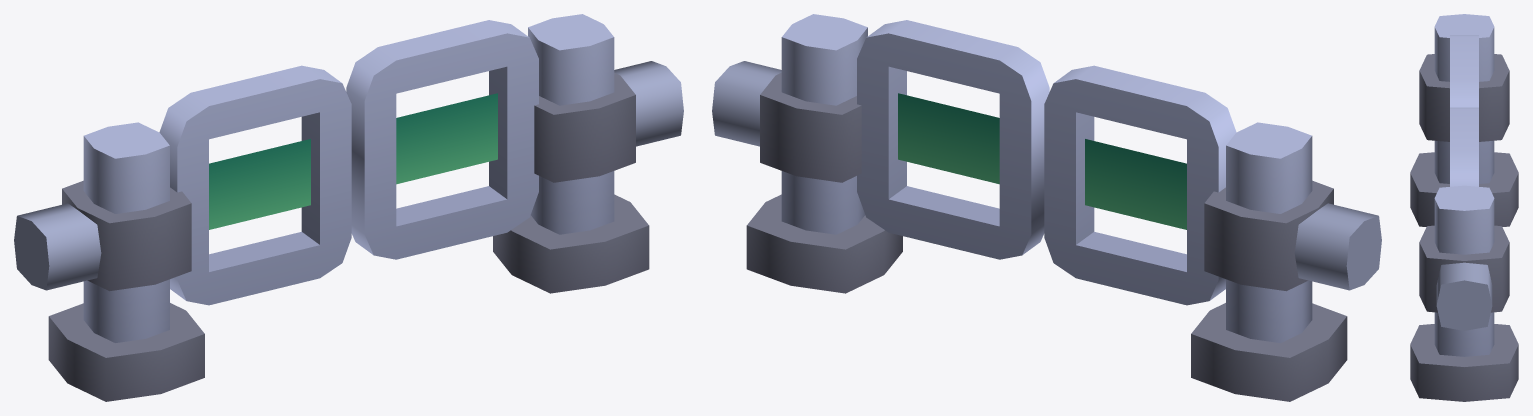
File: fence-door-rotate.obj
The picture shows the model from 3 angles, left to right: view 1: azimuth 30°, elevation 25°; view 2: azimuth 150°, elevation 25°; view 3: azimuth 270°, elevation 25°; orthographic projection. The views are drawn at different scales.
Parts seen in each view (by area): view 1: fence-door-rotate, door-right, door-left; view 2: fence-door-rotate, door-right, door-left; view 3: fence-door-rotate, door-right, door-left.
Boxes of the visible parts, x1,y1,x2,y2 form: fence-door-rotate: (14,14,683,401); door-right: (346,20,538,259); door-left: (159,65,351,305); fence-door-rotate: (712,14,1381,401); door-right: (857,20,1049,259); door-left: (1044,65,1236,305); fence-door-rotate: (1410,14,1518,401); door-right: (1450,107,1478,186); door-left: (1450,35,1478,107).
Size of the model in its own units: 1 by 0.379 by 0.187.
Materials: 1 (1 with a texture image).
